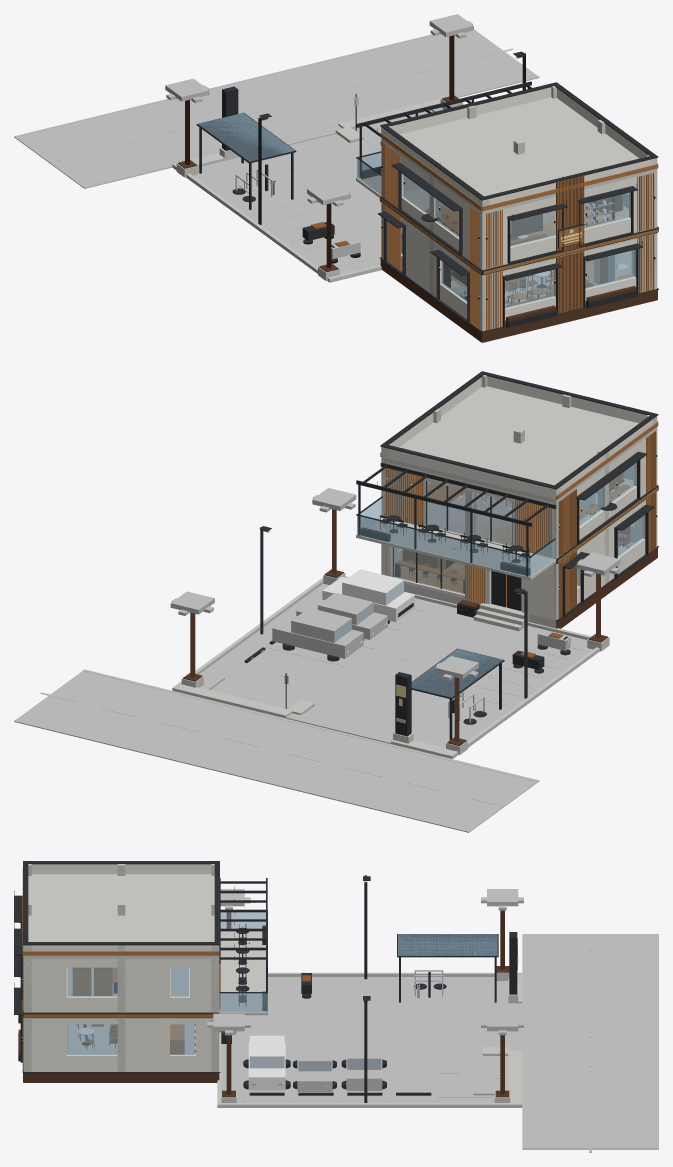
Rendered from coffee_shop_3d.obj.
3 renders of one model, top to bottom at view 1: azimuth 30°, elevation 25°; view 2: azimuth 150°, elevation 25°; view 3: azimuth 270°, elevation 25°, orthographic. The views are drawn at different scales.
Parts seen in each view (by area): view 1: asphalt, concrete, wall, metal_dark, wood, glass, wood_dark, greenery, paint_white, floor, leather, paint_yellow (+2 smaller); view 2: asphalt, concrete, metal_dark, wall, glass, wood, greenery, car_paint_blue, wood_dark, paint_white, paint_blue, fixture_white (+3 smaller); view 3: asphalt, concrete, wall, metal_dark, glass, wood, wood_dark, greenery, paint_blue, paint_white, fixture_white, car_paint_blue (+2 smaller).
Part boxes in pixels (x1=…): asphalt: x1=14, y1=29, x2=539, y2=282; concrete: x1=172, y1=86, x2=657, y2=331; wall: x1=381, y1=87, x2=657, y2=330; metal_dark: x1=196, y1=51, x2=658, y2=332; wood: x1=379, y1=133, x2=658, y2=330; glass: x1=198, y1=113, x2=634, y2=308; wood_dark: x1=178, y1=35, x2=657, y2=342; greenery: x1=165, y1=14, x2=473, y2=206; paint_white: x1=14, y1=34, x2=538, y2=267; floor: x1=425, y1=203, x2=633, y2=299; leather: x1=311, y1=215, x2=588, y2=306; paint_yellow: x1=49, y1=48, x2=513, y2=195; asphalt: x1=14, y1=583, x2=599, y2=832; concrete: x1=172, y1=375, x2=657, y2=758; metal_dark: x1=244, y1=371, x2=658, y2=740; wall: x1=381, y1=376, x2=657, y2=620; glass: x1=291, y1=464, x2=643, y2=697; wood: x1=380, y1=421, x2=658, y2=618; greenery: x1=170, y1=488, x2=620, y2=680; car_paint_blue: x1=272, y1=608, x2=363, y2=658; wood_dark: x1=183, y1=480, x2=657, y2=745; paint_white: x1=14, y1=608, x2=582, y2=831; paint_blue: x1=203, y1=664, x2=405, y2=723; fixture_white: x1=322, y1=569, x2=414, y2=622; asphalt: x1=217, y1=934, x2=658, y2=1149; concrete: x1=23, y1=864, x2=522, y2=1107; wall: x1=23, y1=864, x2=219, y2=1071; metal_dark: x1=14, y1=861, x2=517, y2=1102; glass: x1=67, y1=912, x2=497, y2=1070; wood: x1=22, y1=869, x2=220, y2=1070; wood_dark: x1=18, y1=910, x2=509, y2=1097; greenery: x1=207, y1=889, x2=523, y2=1035; paint_blue: x1=440, y1=974, x2=517, y2=1097; paint_white: x1=242, y1=934, x2=658, y2=1148; fixture_white: x1=248, y1=1035, x2=285, y2=1090; car_paint_blue: x1=346, y1=1038, x2=382, y2=1090.
Size of the model in its own units: 26.5 by 7.87 by 33.
